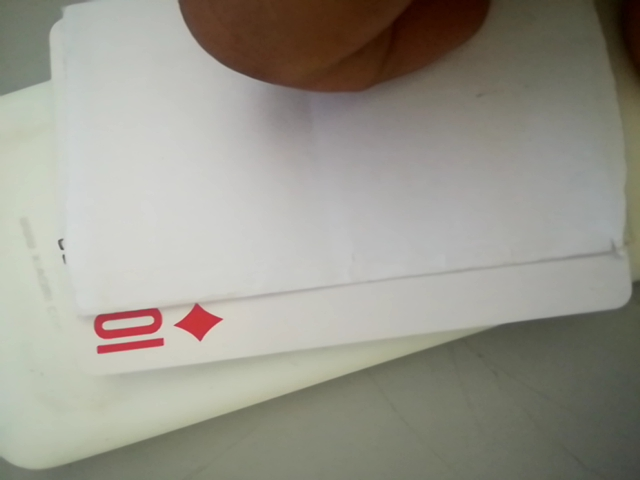fk 10: (78, 301, 208, 364)
